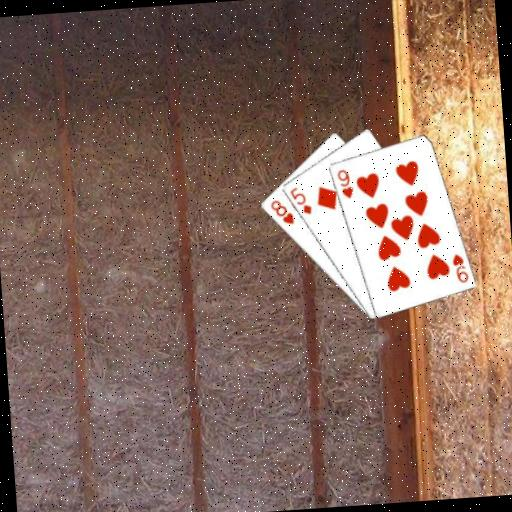5D: (286, 184, 313, 218)
8H: (267, 196, 296, 228)
9H: (334, 165, 355, 200), (449, 250, 470, 285)
